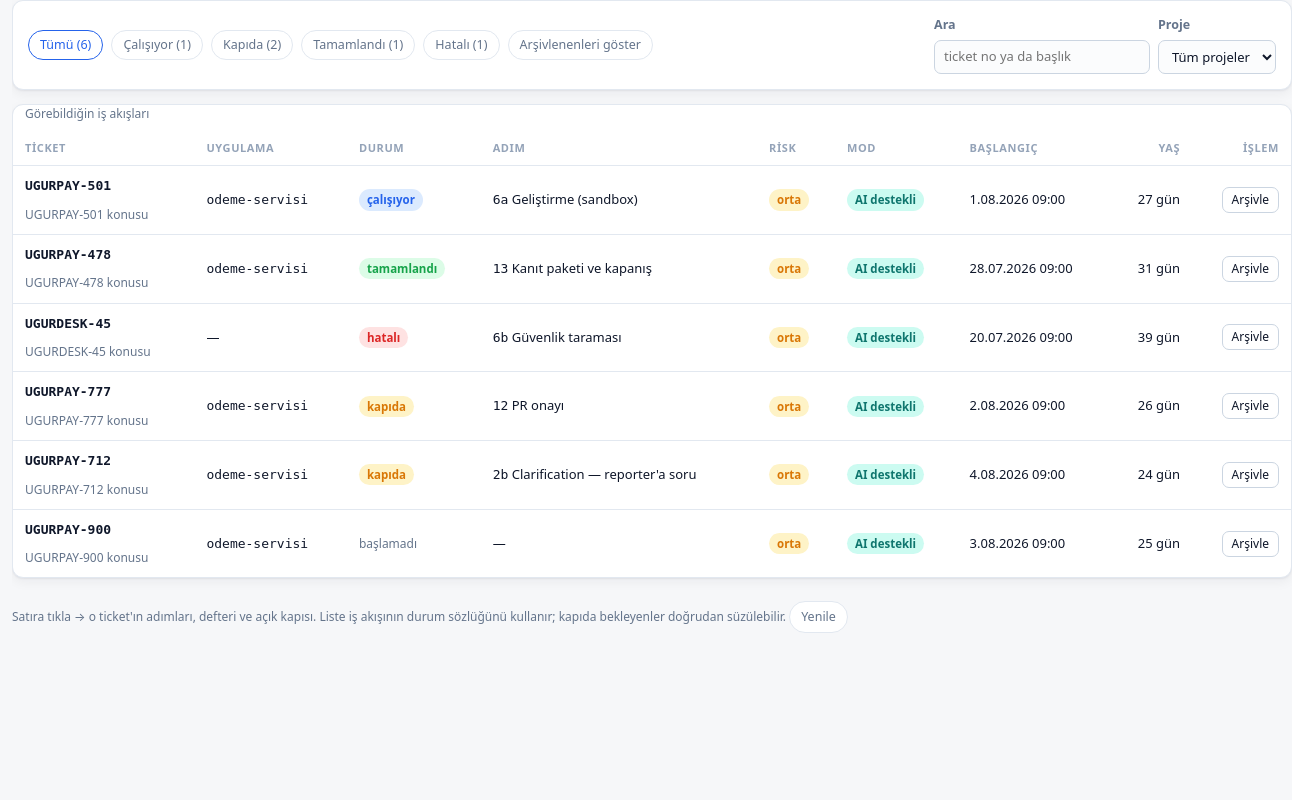
Scenario: tickets › filters by Jira project
Check: the text "UGURPAY-501" is shown, box [25,178,111,193]
Select "UGURDESK" in the dropdown labelled "Proje" at (1217, 57), box [1158,40,1276,74]
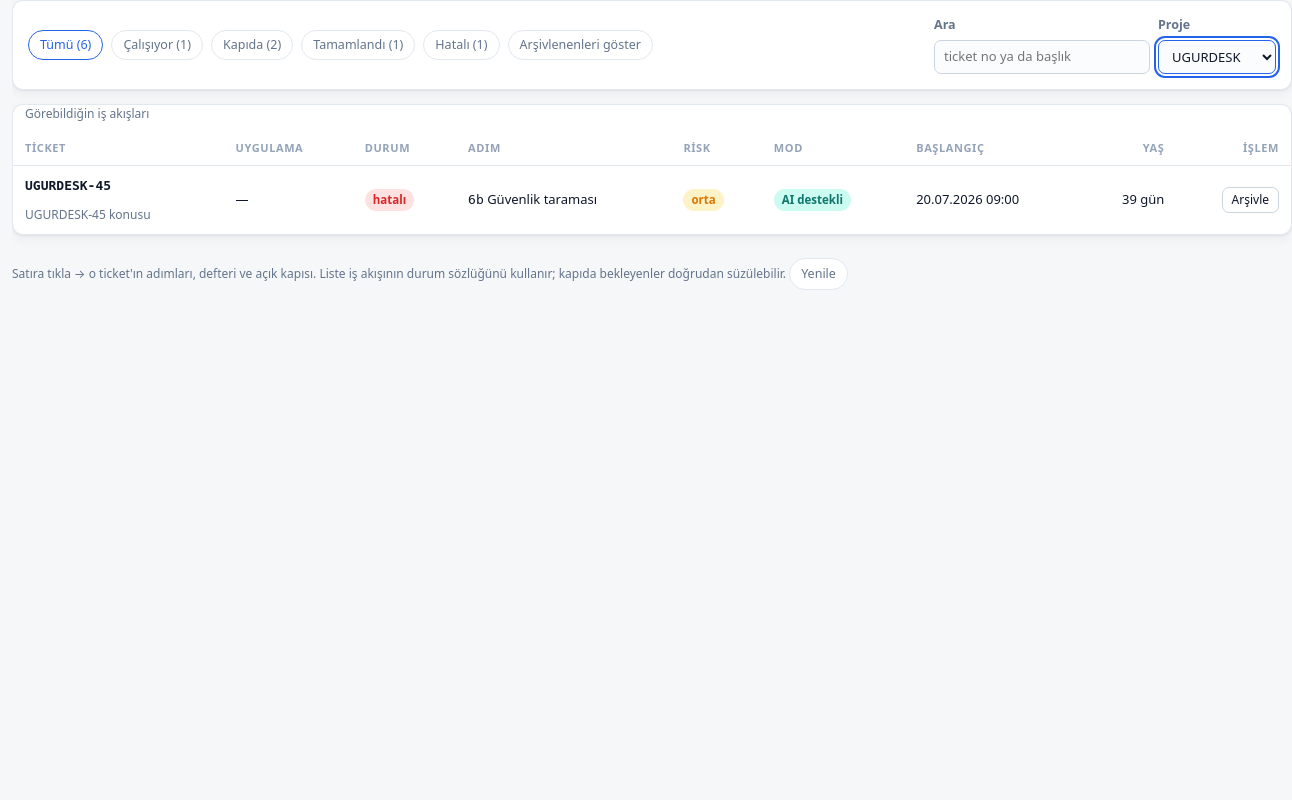
Check: the text "UGURDESK-45" is shown, box [25,178,111,193]
Check: the button "UGURPAY-501" is gone
